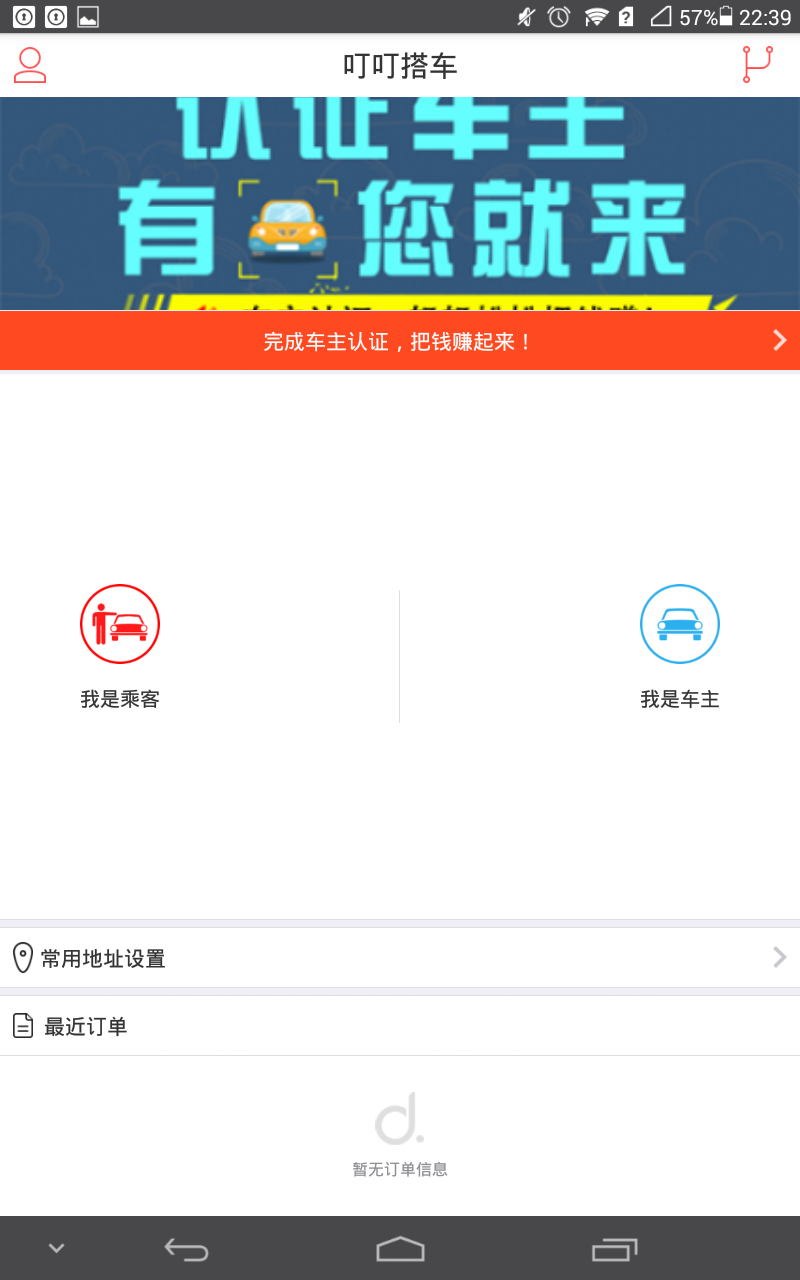imgview: (613, 565, 744, 727), (60, 568, 183, 721)
